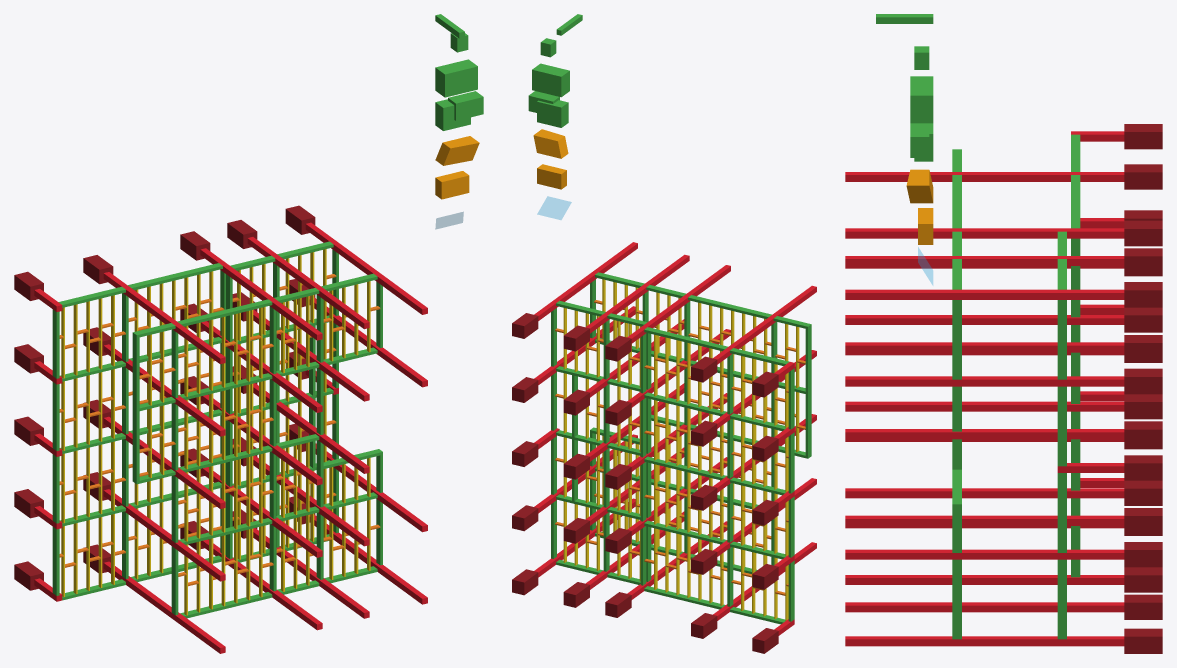
File: tinker.obj
3 renders of one model, left to right at view 1: azimuth 30°, elevation 25°; view 2: azimuth 150°, elevation 25°; view 3: azimuth 270°, elevation 25°, orthographic. The views are drawn at different scales.
Visible parts, largest first — view 1: obj_420, obj_4, obj_2, obj_1, obj_3, obj_421, obj_20, obj_15, obj_13, obj_11, obj_6, obj_21 (+13 smaller); view 2: obj_420, obj_421, obj_2, obj_1, obj_3, obj_4, obj_419, obj_13, obj_21, obj_7, obj_9, obj_16 (+43 smaller); view 3: obj_4, obj_9, obj_23, obj_18, obj_13, obj_8, obj_17, obj_22, obj_16, obj_12, obj_2, obj_3 (+47 smaller).
Part boxes in pixels (bbox=[...]): obj_420: bbox=[435, 91, 483, 130]; obj_4: bbox=[305, 222, 427, 314]; obj_2: bbox=[200, 248, 322, 340]; obj_1: bbox=[103, 272, 225, 364]; obj_3: bbox=[247, 237, 369, 329]; obj_421: bbox=[435, 59, 477, 97]; obj_20: bbox=[103, 561, 225, 653]; obj_15: bbox=[103, 489, 225, 581]; obj_13: bbox=[253, 383, 369, 473]; obj_11: bbox=[103, 416, 225, 508]; obj_6: bbox=[103, 344, 225, 436]; obj_21: bbox=[200, 539, 322, 630]; obj_420: bbox=[528, 91, 568, 127]; obj_421: bbox=[532, 63, 569, 97]; obj_2: bbox=[627, 265, 730, 343]; obj_1: bbox=[713, 285, 816, 364]; obj_3: bbox=[586, 254, 689, 333]; obj_4: bbox=[534, 242, 637, 320]; obj_419: bbox=[533, 129, 568, 158]; obj_13: bbox=[585, 383, 684, 461]; obj_21: bbox=[627, 521, 727, 599]; obj_7: bbox=[627, 329, 730, 407]; obj_9: bbox=[534, 306, 635, 384]; obj_16: bbox=[627, 457, 727, 535]; obj_4: bbox=[845, 289, 1124, 299]; obj_9: bbox=[845, 376, 1124, 386]; obj_23: bbox=[845, 636, 1124, 646]; obj_18: bbox=[845, 549, 1124, 559]; obj_13: bbox=[845, 429, 1124, 439]; obj_8: bbox=[845, 342, 1124, 352]; obj_17: bbox=[845, 515, 1124, 525]; obj_22: bbox=[845, 602, 1124, 612]; obj_16: bbox=[845, 488, 1124, 498]; obj_12: bbox=[845, 401, 1124, 411]; obj_2: bbox=[845, 228, 1124, 238]; obj_3: bbox=[845, 256, 1124, 265].
Size of the model in its own units: 132 by 192 by 83.
